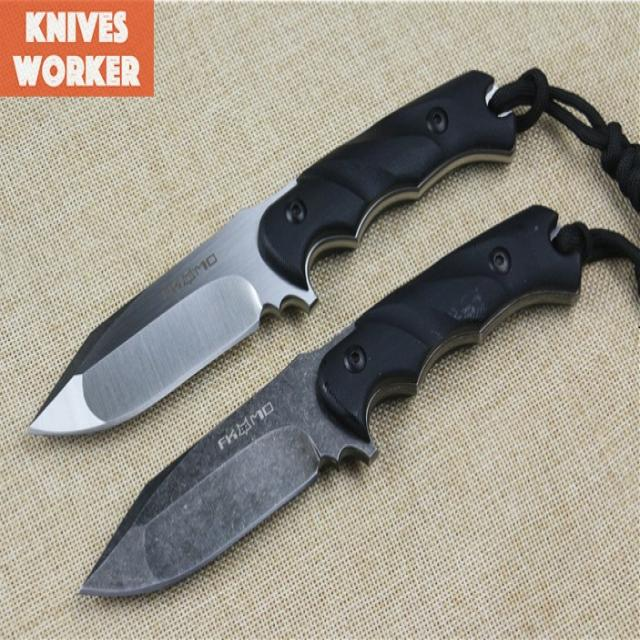knife: (80, 202, 590, 605), (27, 70, 521, 442)
